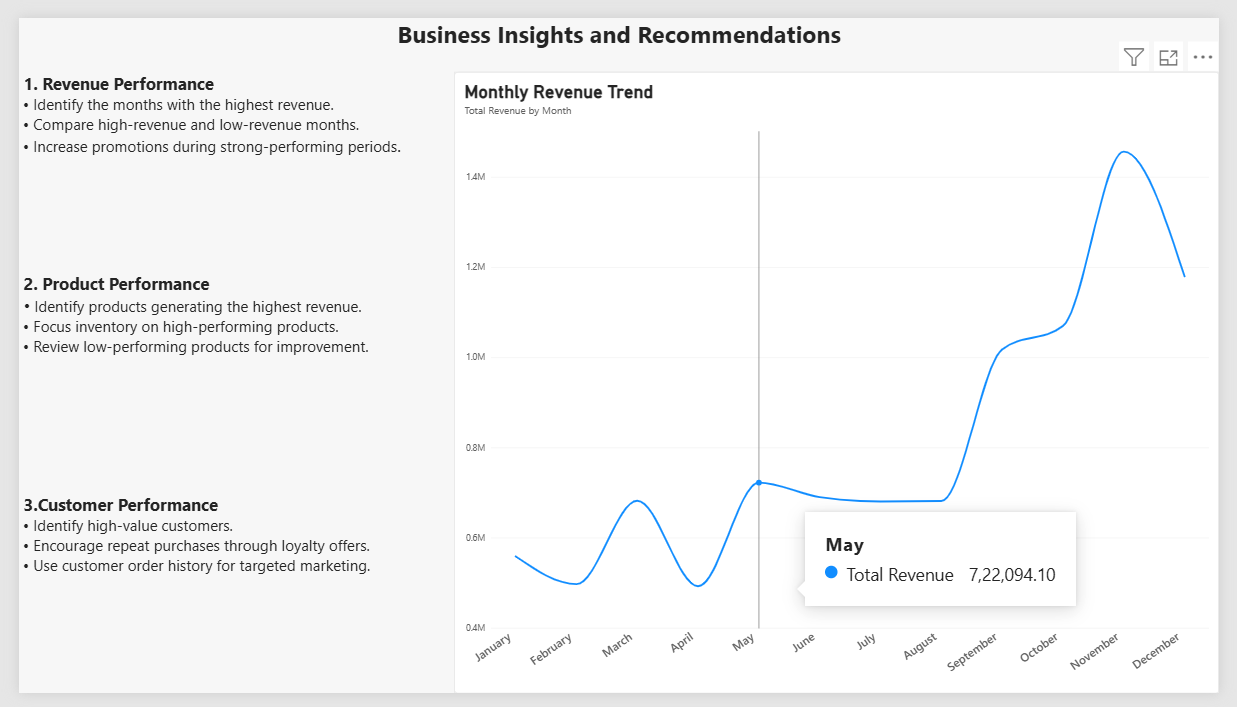

The page's visual inventory and layout, read from the dashboard file:
{"tool":"powerbi","page":{"name":"Business Insights","canvas":[1920,1080],"ordinal":3},"visuals":[{"type":"textbox","box":[0,0,1920.8,86.4],"z":0},{"type":"textbox","box":[0,85,695,320],"z":1},{"type":"textbox","box":[0,405,695,355],"z":2},{"type":"textbox","box":[0,760,695,320],"z":3},{"type":"lineChart","title":"Monthly Revenue Trend","fields":{"Category":["sales.InvoiceDate.Variation.Date Hierarchy.Month"],"Y":["sales.Total Revenue"]},"box":[695,85,1225,995],"z":4}]}

Visuals, with their boxes in screenshot pixels (x1, y1, x2, y2), scaled from the page's 1920x1080 canvas onto the 1237x707 screenshot:
textbox: [0, 0, 1236, 57]
textbox: [0, 56, 448, 265]
textbox: [0, 265, 448, 498]
textbox: [0, 498, 448, 706]
"Monthly Revenue Trend" lineChart: [448, 56, 1236, 706]
